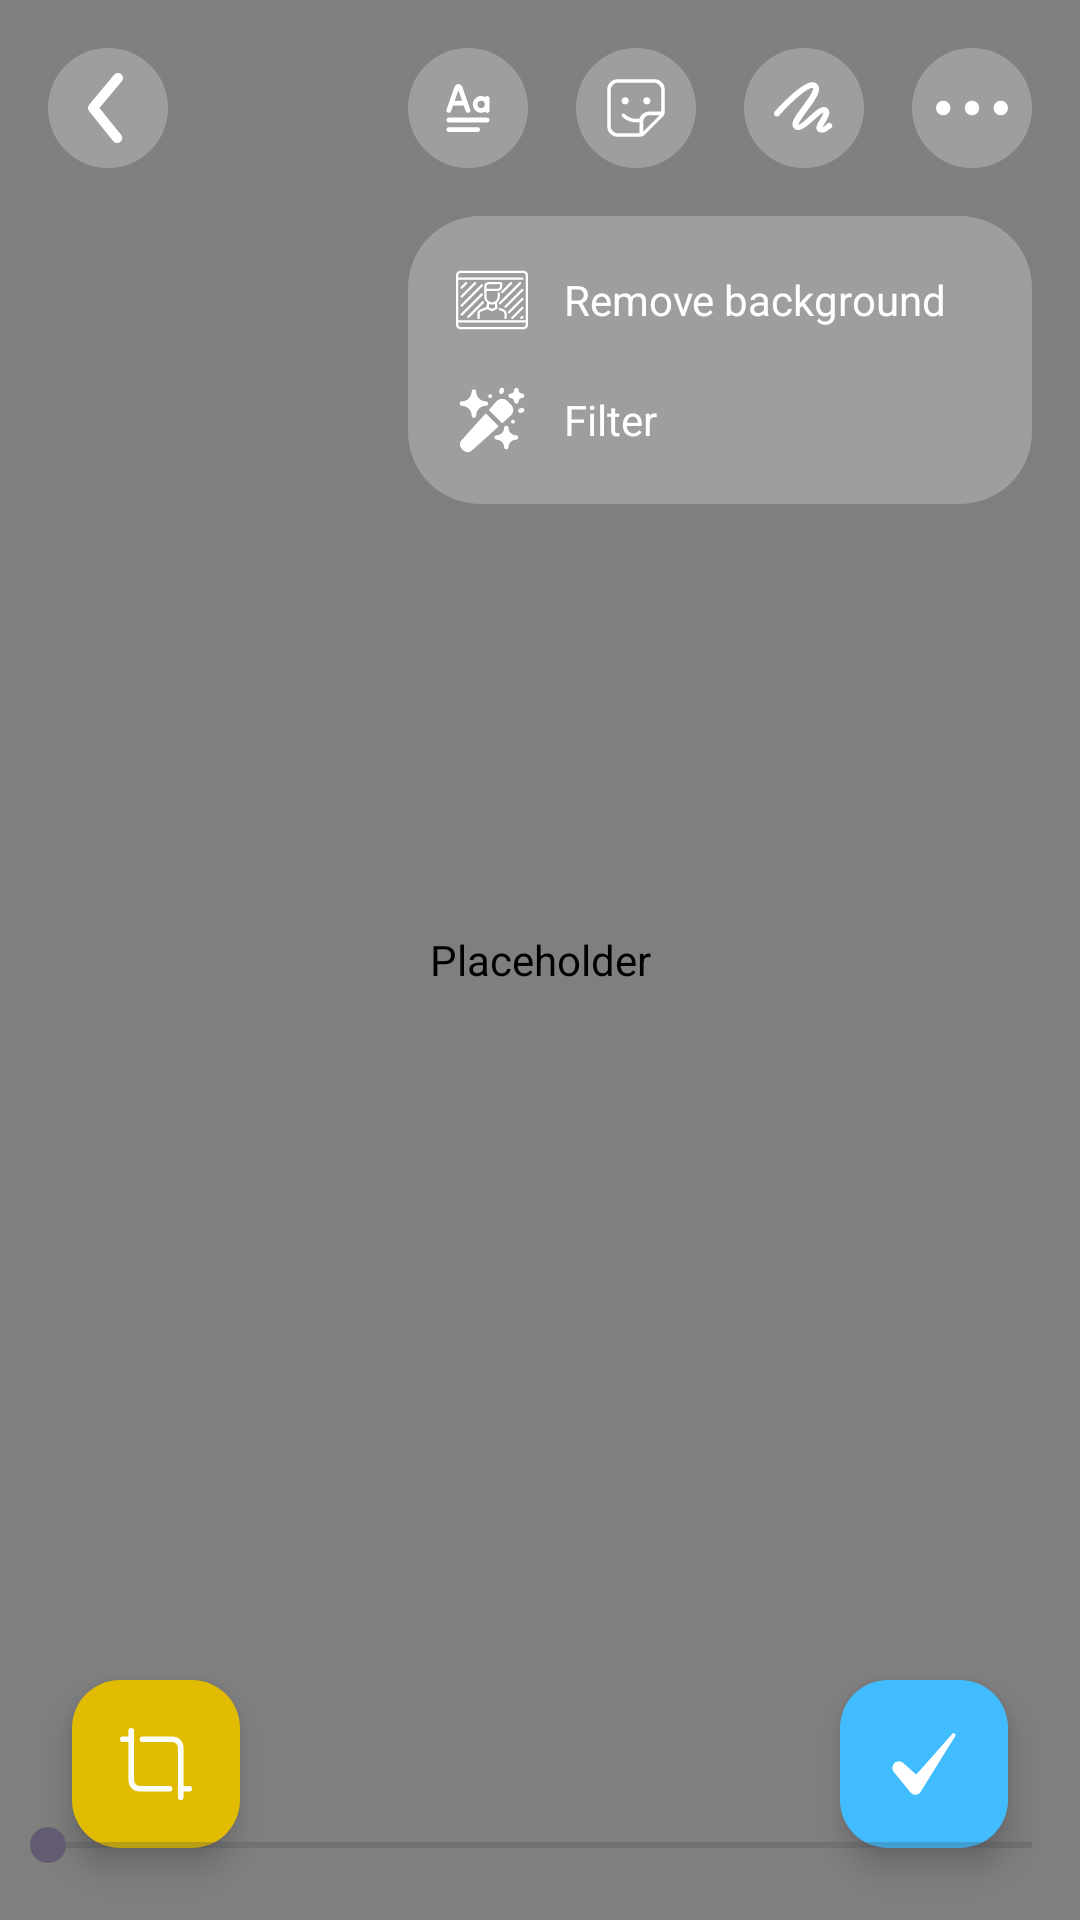

Icon bounding boxes for this 1080x1920 phone screenshot, format (x1, y1, x2, y2):
back: (48, 48, 168, 168)
crop: (72, 1680, 240, 1848)
drawing: (744, 48, 864, 168)
more: (912, 48, 1032, 168)
sticker: (576, 48, 696, 168)
text: (408, 48, 528, 168)
tick: (840, 1680, 1008, 1848)
